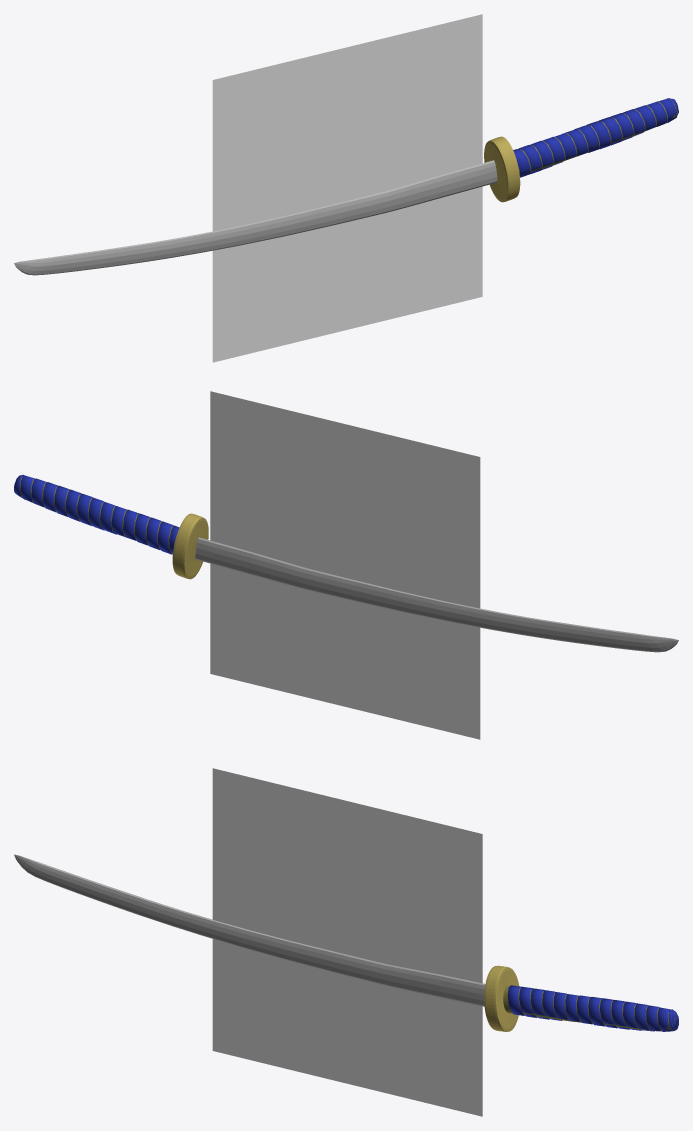
File: katanaboring.fbx
3 renders of one model, top to bottom at view 1: azimuth 30°, elevation 25°; view 2: azimuth 150°, elevation 25°; view 3: azimuth 330°, elevation 25°, orthographic.
Parts seen in each view (by area): view 1: Plane, Blade, Plane.001, hilt, handle; view 2: Plane, Blade, Plane.001, hilt, handle; view 3: Plane, Blade, Plane.001, hilt, handle.
Boxes of the visible parts, x1,y1,x2,y2 form: Plane: [212, 14, 482, 362]; Blade: [14, 160, 497, 275]; Plane.001: [513, 98, 678, 177]; hilt: [484, 136, 520, 202]; handle: [518, 99, 677, 172]; Plane: [210, 391, 480, 739]; Blade: [195, 537, 678, 652]; Plane.001: [14, 474, 179, 554]; hilt: [172, 513, 208, 579]; handle: [19, 476, 172, 553]; Plane: [212, 768, 482, 1116]; Blade: [14, 854, 485, 1006]; Plane.001: [507, 985, 678, 1031]; hilt: [484, 965, 519, 1031]; handle: [503, 986, 675, 1031].
Bounding box in the file's own units: 491 × 200 × 30.53.
